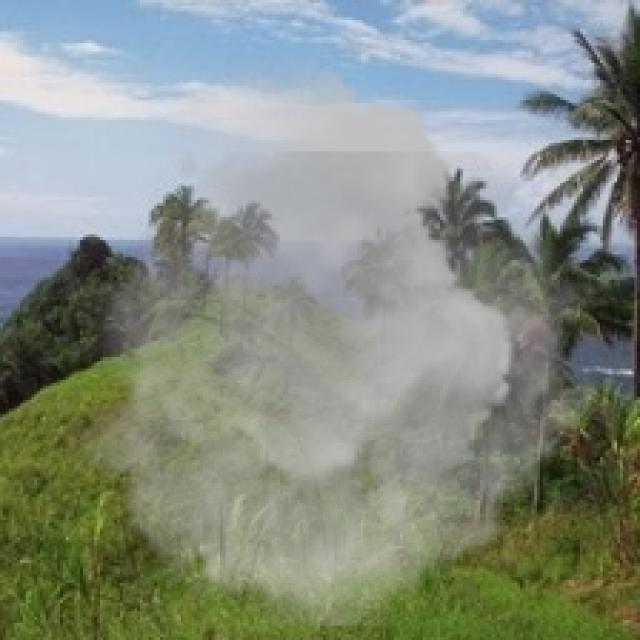Smoke: (62, 57, 614, 626)
